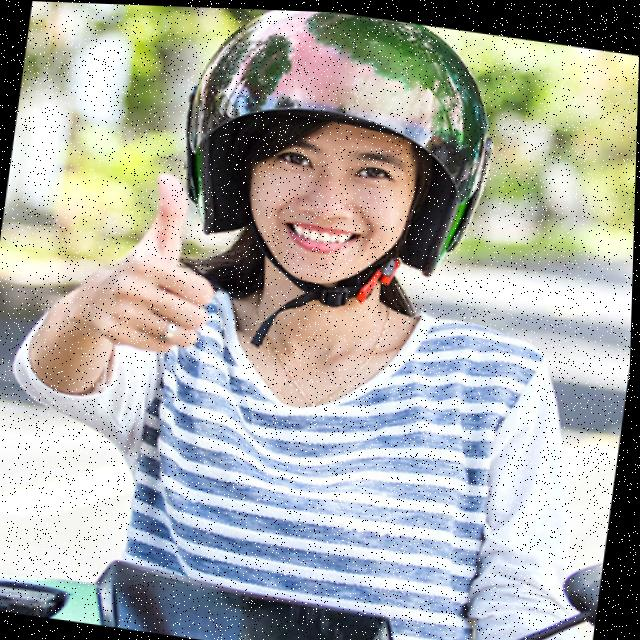helmet: (154, 5, 514, 333)
